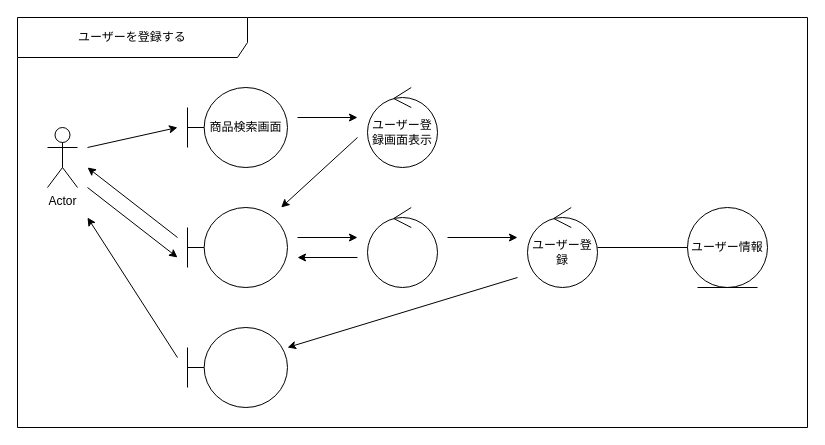
This 825x445 diagram has some shape labels left out. Here are the shapes that lost their labels. From the top down, the centre of each, then its label:
At point (237, 247): "ユーザー登録画面".
At point (402, 247): "バリデーション".
At point (237, 367): "商品検索j画面".
